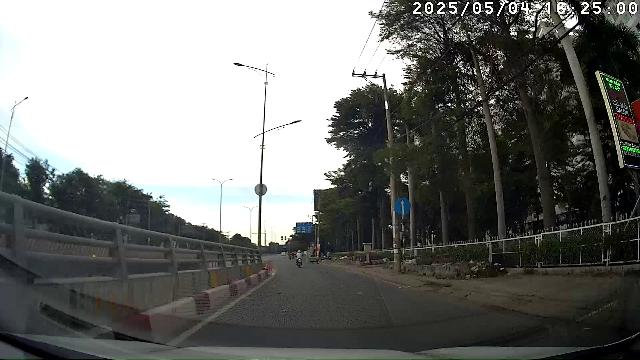301a-cac-xe-chi-duoc-di-thang: (394, 197, 411, 215)
